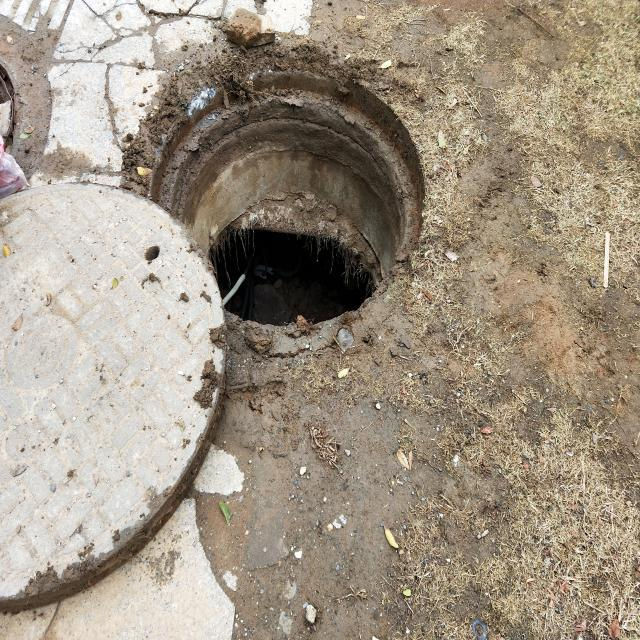Faulty: (4, 54, 420, 614)
